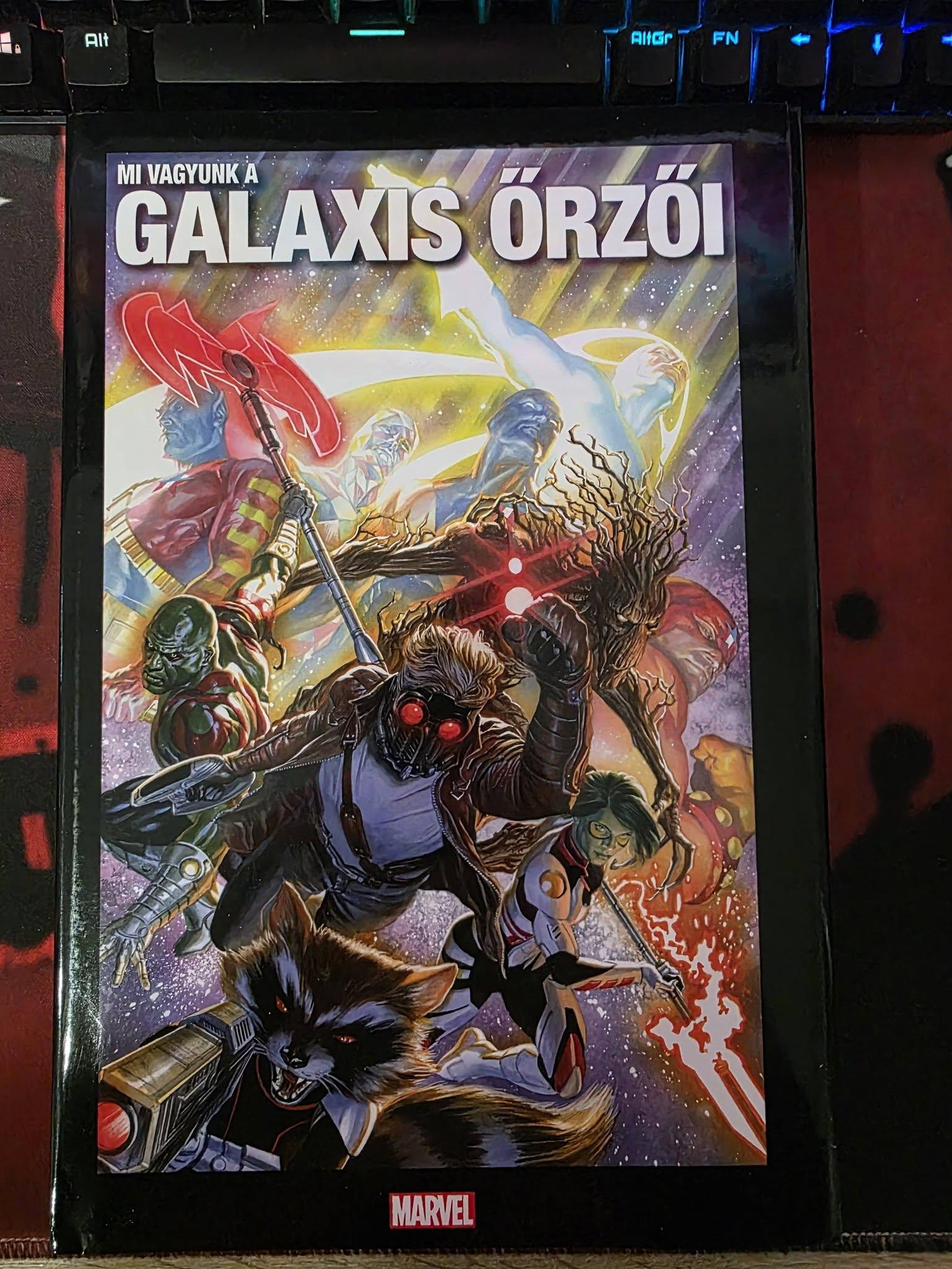comic: (47, 85, 848, 1253)
